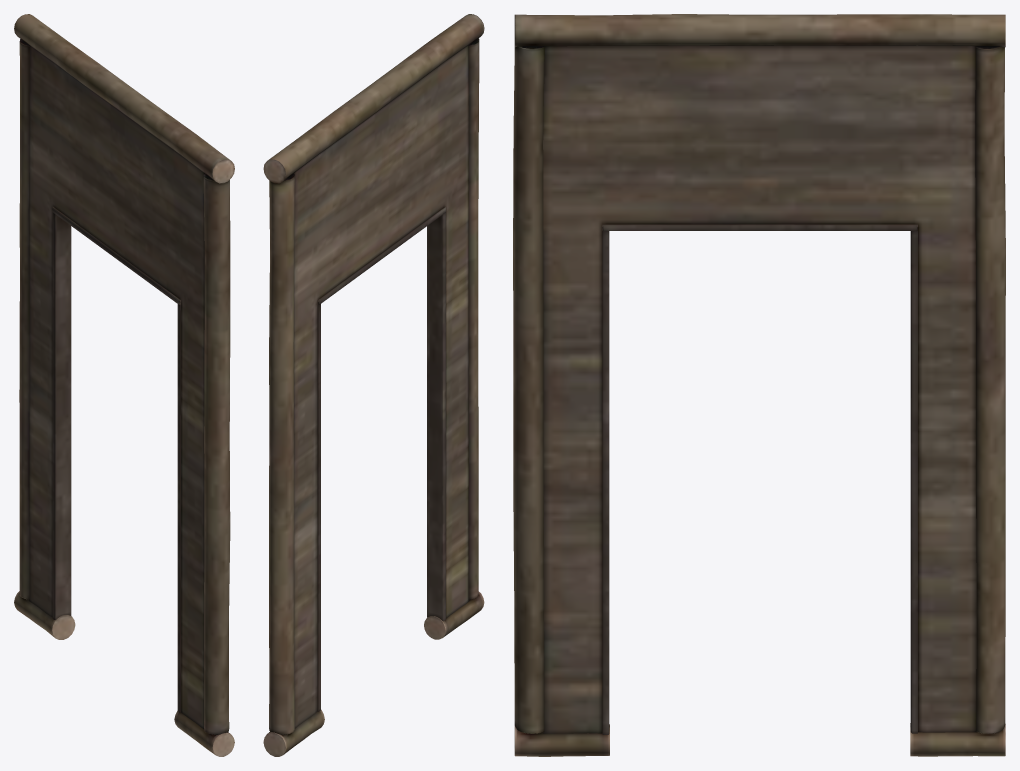
Rendered from SM_WallGate_Wood_8b1487.glb.
3 views of the same model, side by side, from view 1: azimuth 30°, elevation 25°; view 2: azimuth 150°, elevation 25°; view 3: azimuth 270°, elevation 25° (orthographic). The views are drawn at different scales.
Bounding box in the file's own units: 0.2748 × 6.66 × 4.03.
1 material, 1 textured.
